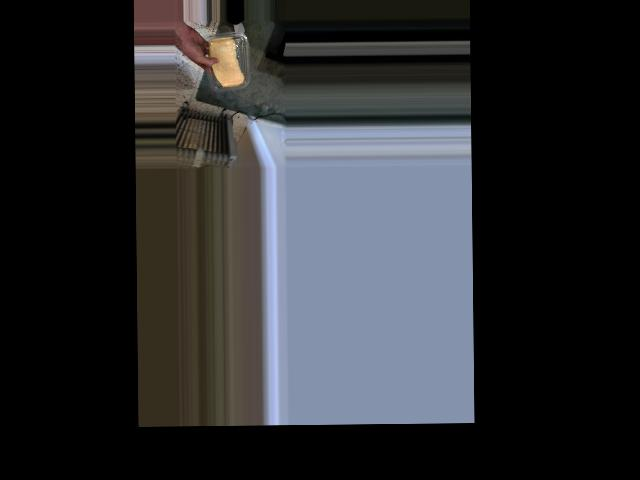cheese: (203, 32, 249, 94)
